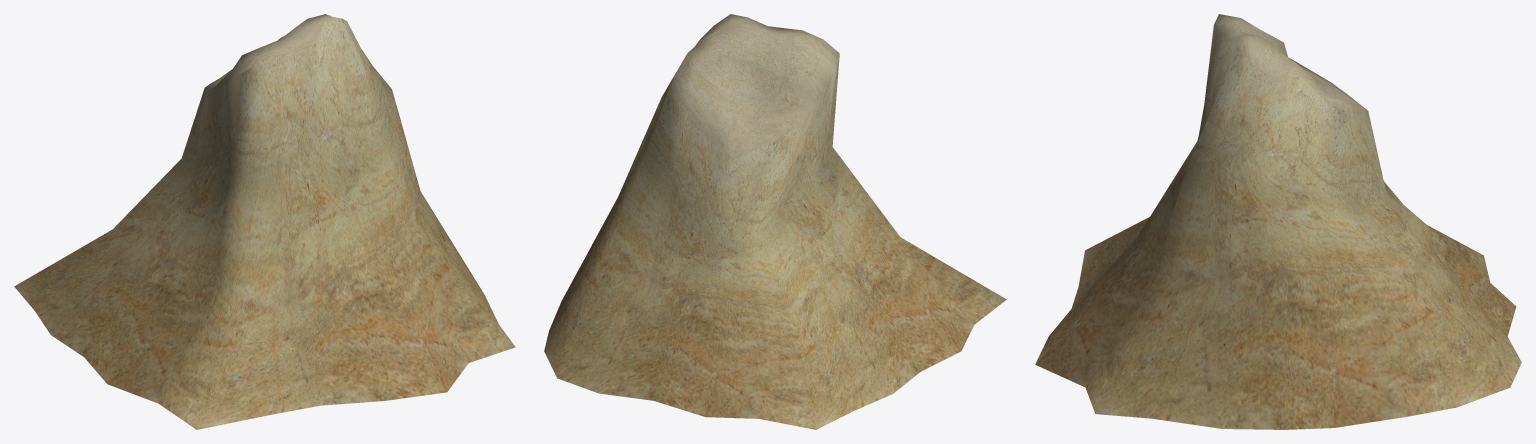
Rendered from rock_beach_spike_a2_l1.fbx.
3 views of the same model, side by side, from view 1: azimuth 30°, elevation 25°; view 2: azimuth 150°, elevation 25°; view 3: azimuth 270°, elevation 25° (orthographic). The views are drawn at different scales.
Parts seen in each view (by area): view 1: mesh_node; view 2: mesh_node; view 3: mesh_node.
Boxes of the visible parts, x1=… form: mesh_node: x1=14, y1=14, x2=515, y2=429; mesh_node: x1=544, y1=14, x2=1006, y2=429; mesh_node: x1=1035, y1=14, x2=1521, y2=429.
Bounding box in the file's own units: 7.28 × 5.63 × 7.88.
